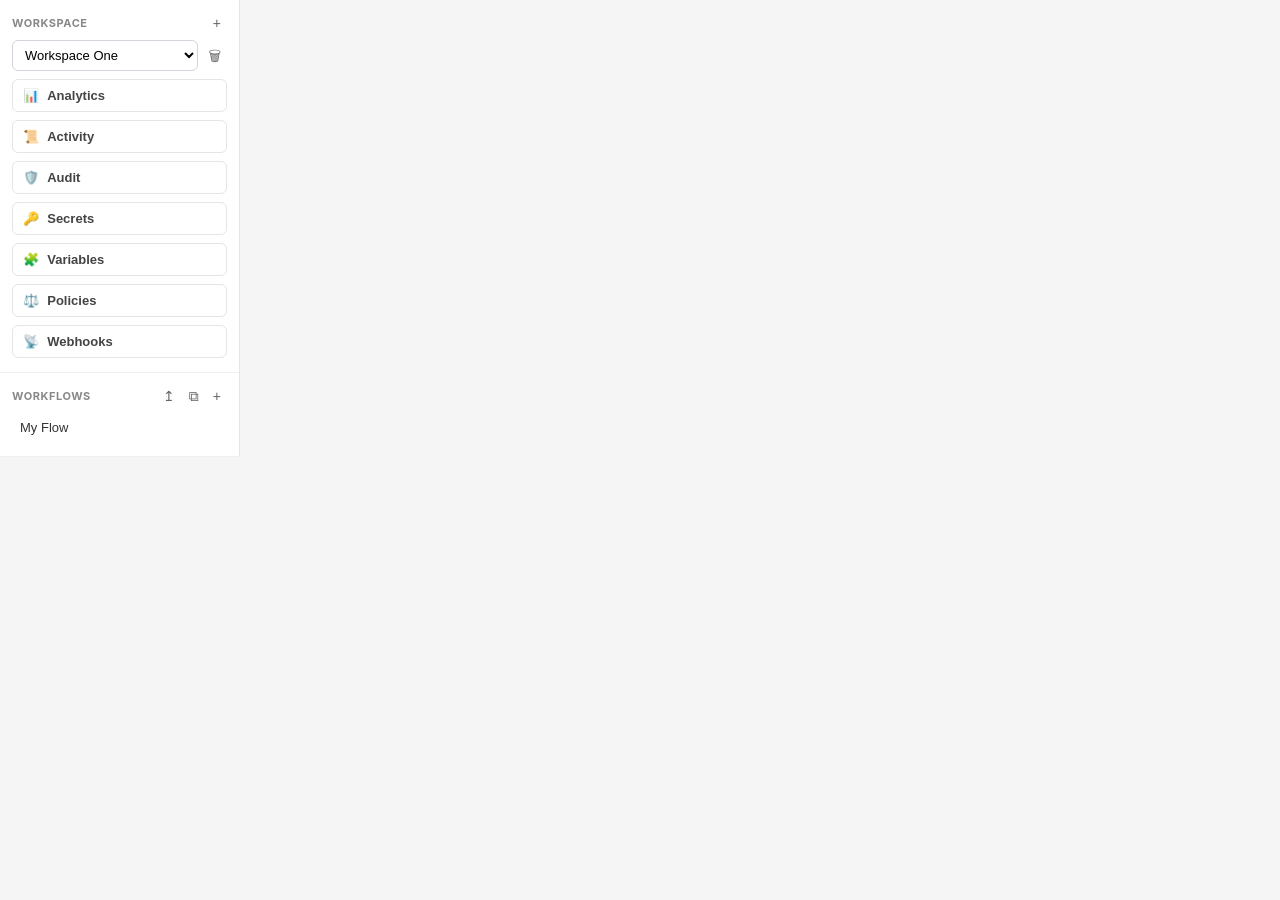
Test: Sidebar workflow actions menu › opens the import modal from the Workflows header
The width and height of the screenshot is (1280, 900).
Click the button named "Import workflow": (169, 396) [157,387,181,405]
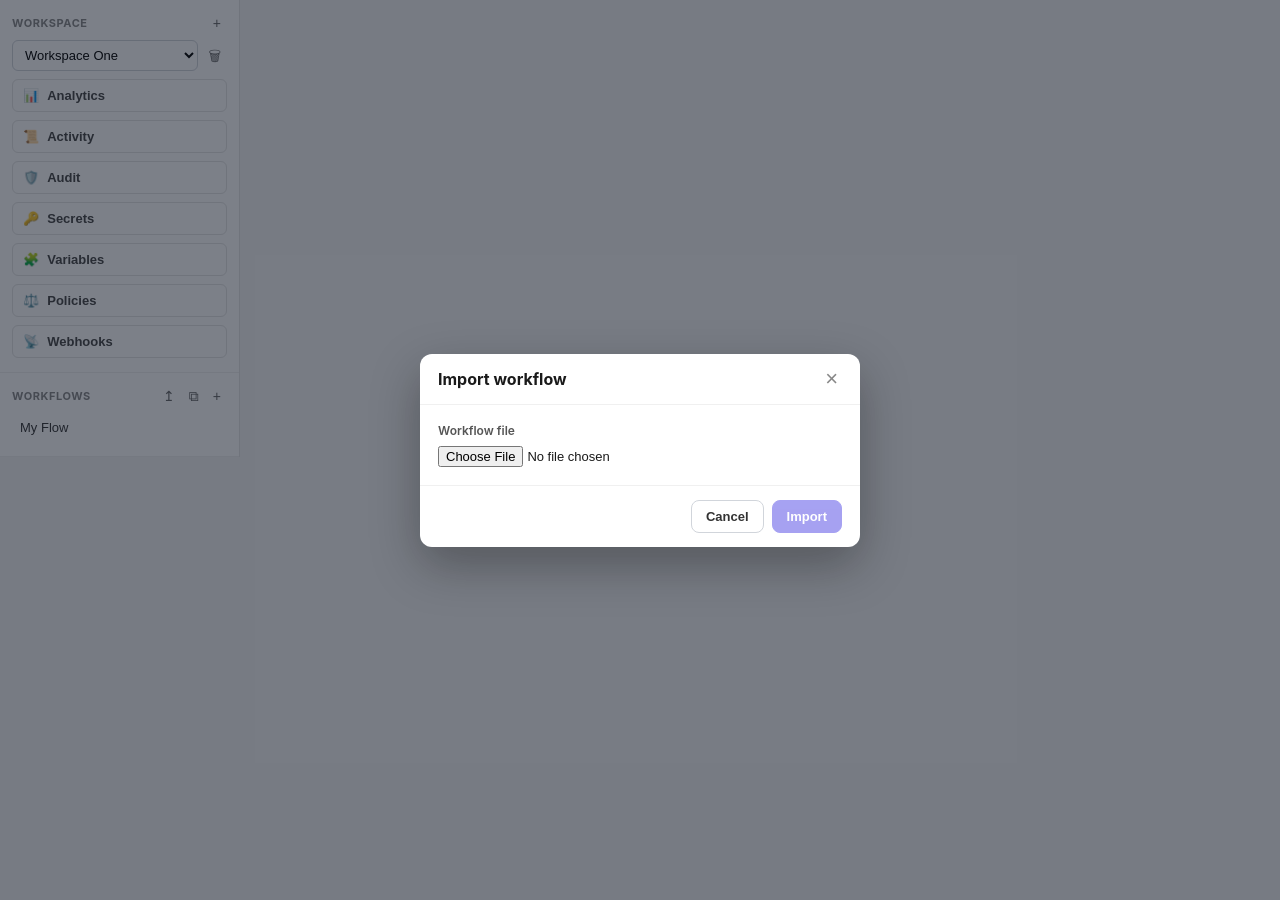
Expected: the dialog "Import workflow" is shown
